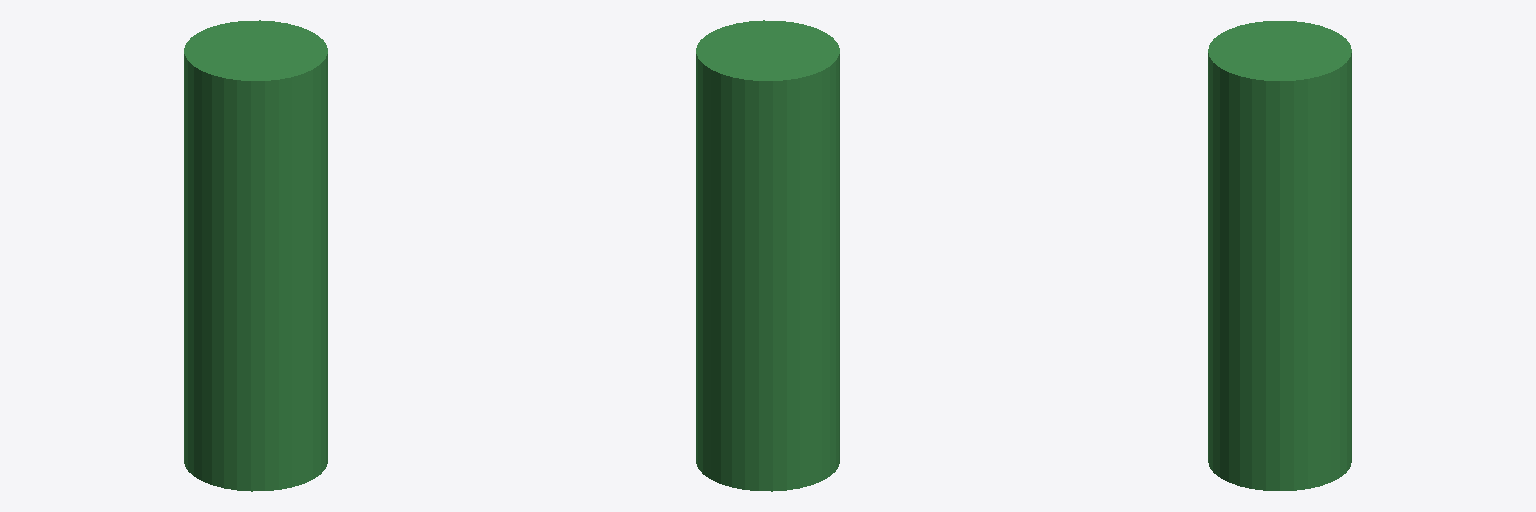
URDF robot description (bottle_tall):
<?xml version="1.0"?>
<robot name="bottle_tall">
  <link name="base_link">
    <inertial>
      <origin xyz="0 0 0.110000" rpy="0 0 0"/>
      <mass value="0.4"/>
      <inertia ixx="0.00173583" ixy="0" ixz="0" iyy="0.00173583" iyz="0" izz="0.00024500"/>
    </inertial>
    <visual>
      <origin xyz="0 0 0.110000" rpy="0 0 0"/>
      <geometry><cylinder radius="0.035" length="0.22"/></geometry>
      <material name="bottle_tall_mat">
        <color rgba="0.3 0.6 0.35 0.8"/>
      </material>
    </visual>
    <collision>
      <origin xyz="0 0 0.110000" rpy="0 0 0"/>
      <geometry><cylinder radius="0.035" length="0.22"/></geometry>
    </collision>
  </link>
</robot>

--- Facts derived from the render (not from the file) ---
The picture shows the robot from 3 angles, left to right: view 1: azimuth 30°, elevation 25°; view 2: azimuth 150°, elevation 25°; view 3: azimuth 270°, elevation 25°; orthographic projection.
Robot: bottle_tall — 1 links, 0 joints (none); root link base_link; default pose: every joint at zero.
Links seen in each view (by area): view 1: base_link; view 2: base_link; view 3: base_link.
Boxes of the visible links, left/top/right/bottom form: base_link: left=184, top=20, right=327, bottom=491; base_link: left=696, top=20, right=839, bottom=491; base_link: left=1208, top=21, right=1351, bottom=490.
Size in the robot's own frame: 0.07 by 0.07 by 0.22 metres.
Geometry: primitives only (box / cylinder / sphere), no mesh files.
